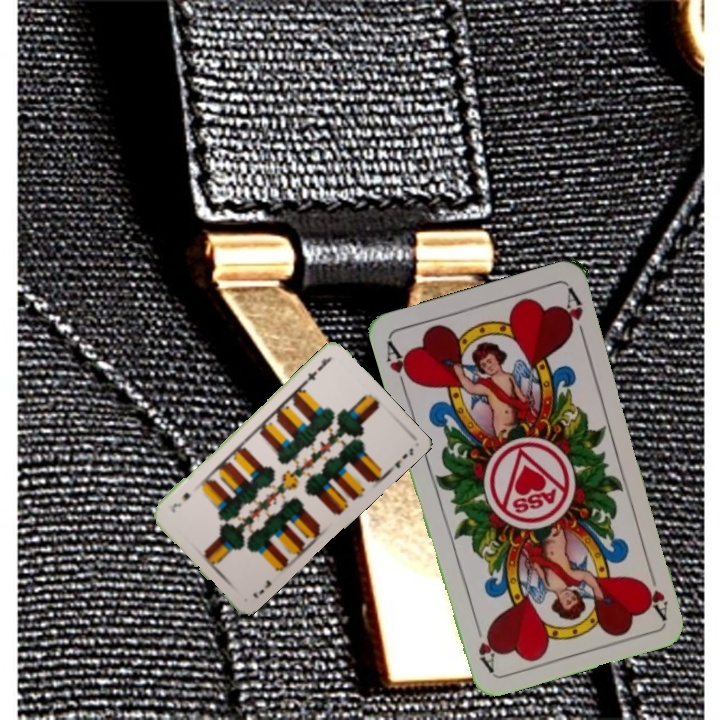E7: (300, 354, 333, 386), (249, 576, 274, 601)
HA: (382, 337, 418, 395), (643, 563, 671, 621)
